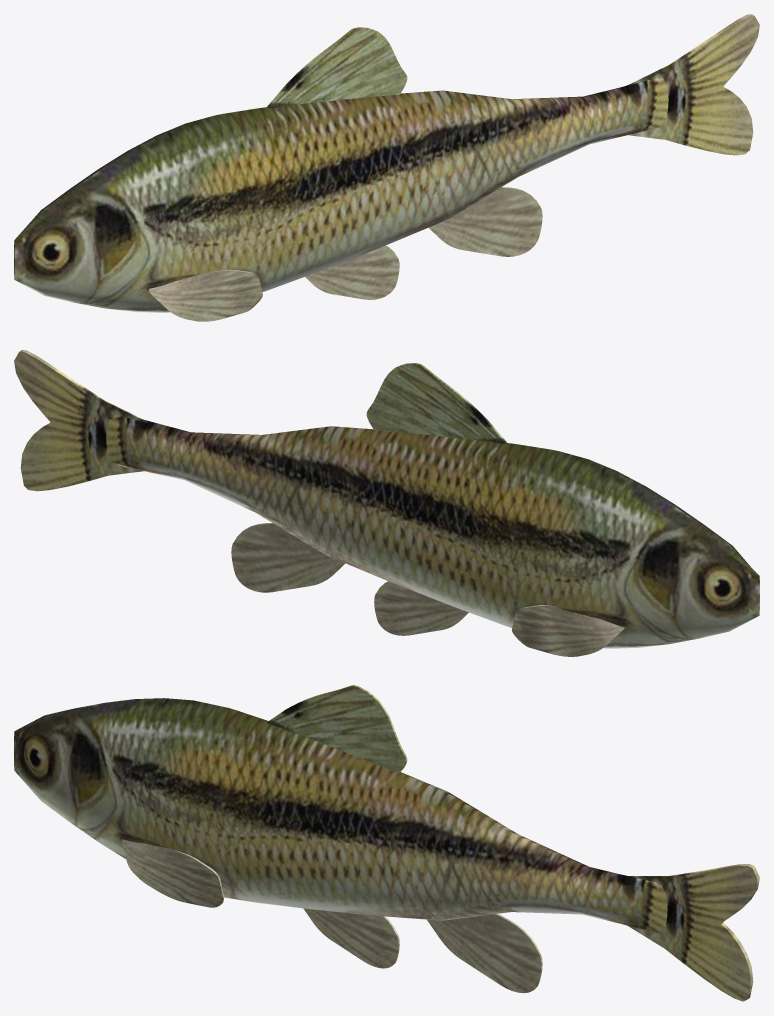
File: minnows.fbx
3 renders of one model, top to bottom at view 1: azimuth 30°, elevation 25°; view 2: azimuth 150°, elevation 25°; view 3: azimuth 330°, elevation 25°, orthographic.
Parts seen in each view (by area): view 1: Line001, Line002, Line011, Line012, Line014, Line013; view 2: Line001, Line002, Line011, Line012, Line015, Line013; view 3: Line001, Line002, Line011, Line012, Line014, Line013.
Boxes of the visible parts, left/top/right/bottom form: Line001: left=14, top=78, right=668, bottom=312; Line002: left=627, top=14, right=759, bottom=155; Line011: left=267, top=27, right=407, bottom=107; Line012: left=429, top=187, right=542, bottom=256; Line014: left=149, top=269, right=262, bottom=321; Line013: left=305, top=245, right=399, bottom=299; Line001: left=106, top=415, right=759, bottom=648; Line002: left=14, top=350, right=147, bottom=491; Line011: left=366, top=363, right=506, bottom=443; Line012: left=231, top=523, right=344, bottom=592; Line015: left=512, top=605, right=624, bottom=656; Line013: left=374, top=581, right=468, bottom=635; Line001: left=14, top=698, right=667, bottom=932; Line002: left=627, top=864, right=759, bottom=1001; Line011: left=267, top=685, right=407, bottom=773; Line012: left=427, top=914, right=542, bottom=993; Line014: left=122, top=839, right=223, bottom=907; Line013: left=303, top=908, right=399, bottom=968.
Bounding box in the file's own units: 1034 × 366 × 96.92.
3 materials, 3 textured.
